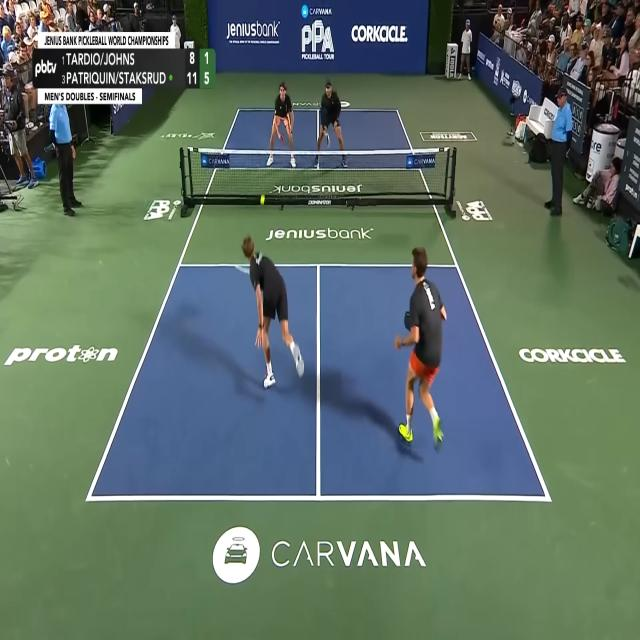ball: (260, 194, 265, 206)
